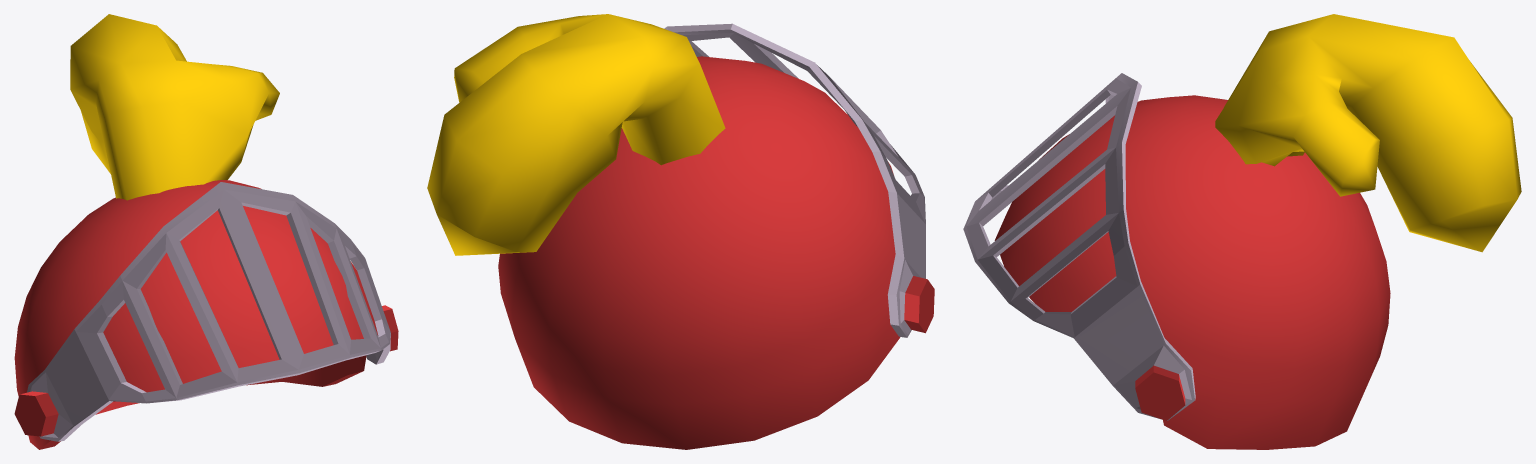
File: Hat_34_03.fbx
The picture shows the model from 3 angles, left to right: view 1: azimuth 30°, elevation 25°; view 2: azimuth 150°, elevation 25°; view 3: azimuth 270°, elevation 25°; orthographic projection. The views are drawn at different scales.
Visible parts, largest first — view 1: Hat_34_03; view 2: Hat_34_03; view 3: Hat_34_03.
Boxes of the visible parts, x1,y1,x2,y2 form: Hat_34_03: (14, 14, 398, 449); Hat_34_03: (427, 14, 934, 449); Hat_34_03: (963, 14, 1521, 449).
Size of the model in its own units: 48.7 by 44.34 by 57.61.
